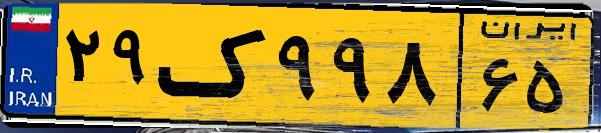2: (57, 26, 110, 100)
5: (525, 38, 570, 115)
6: (475, 38, 525, 113)
8: (385, 28, 445, 110)
9: (270, 28, 330, 110), (330, 28, 385, 110), (110, 28, 158, 98)
ک: (158, 12, 270, 120)
